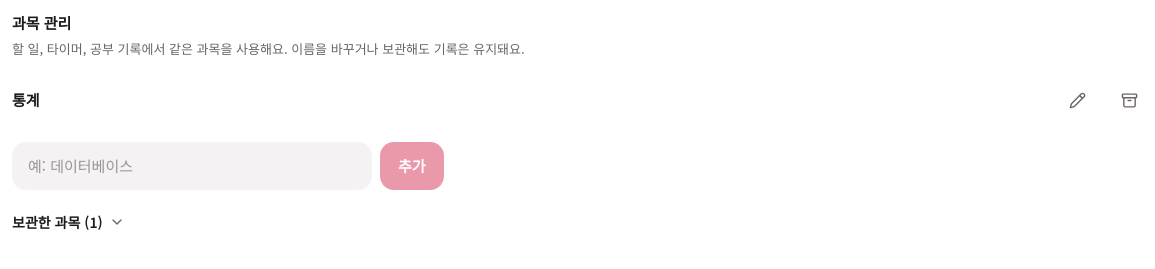
Test: SubjectManager 과목 보관 › restores an archived subject instead of creating one when its name is added again
Type " toeic " into the field named "새 과목 이름" at point(192, 166), box [12,142,372,190]
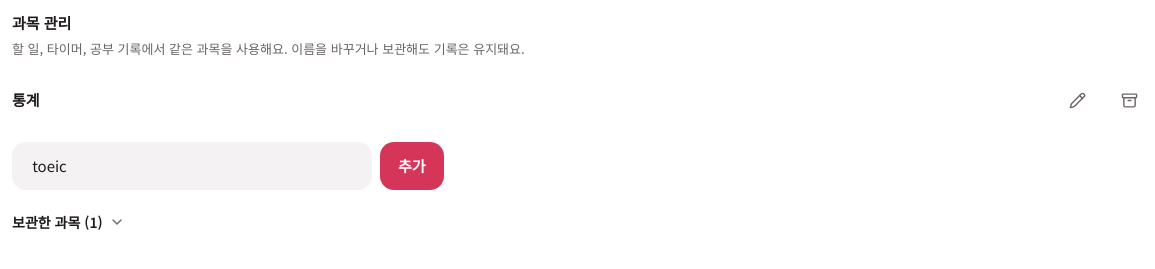
Click the button "추가" at point(412, 166), box [380,142,444,190]
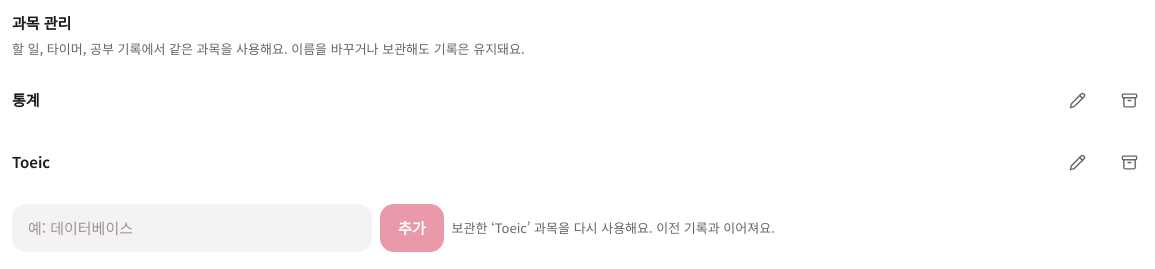
Check: the message reads "보관한 ‘Toeic’ 과목을 다시 사용해요. 이전 기록과 이어져요.", box [452,218,775,237]
Check: the field named "새 과목 이름" is empty, box [12,204,372,252]
Check: the heading "보관한 과목 (1)" is gone
